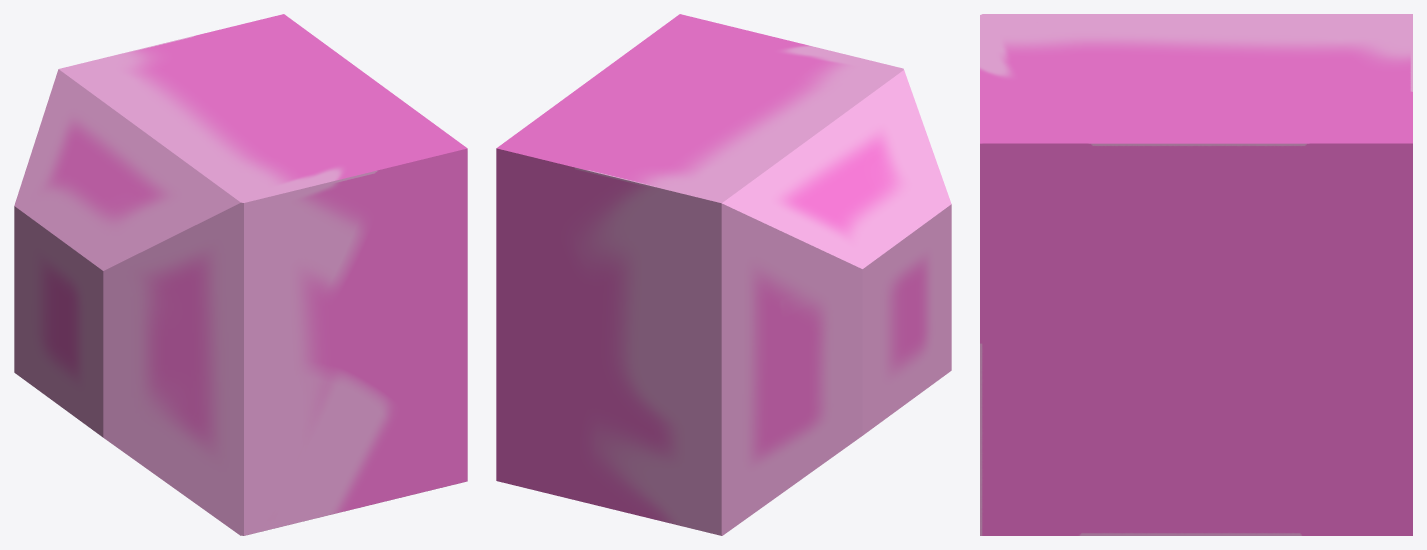
File: Ear piece.fbx
The picture shows the model from 3 angles, left to right: view 1: azimuth 30°, elevation 25°; view 2: azimuth 150°, elevation 25°; view 3: azimuth 270°, elevation 25°; orthographic projection. The views are drawn at different scales.
Parts seen in each view (by area): view 1: Ear piece_Baked; view 2: Ear piece_Baked; view 3: Ear piece_Baked.
Part boxes in pixels (bbox=[...]): Ear piece_Baked: bbox=[14, 14, 467, 535]; Ear piece_Baked: bbox=[496, 14, 951, 535]; Ear piece_Baked: bbox=[980, 14, 1412, 535].
Size of the model in its own units: 33.78 by 33.78 by 33.78.
Materials: 1 (1 with a texture image).
